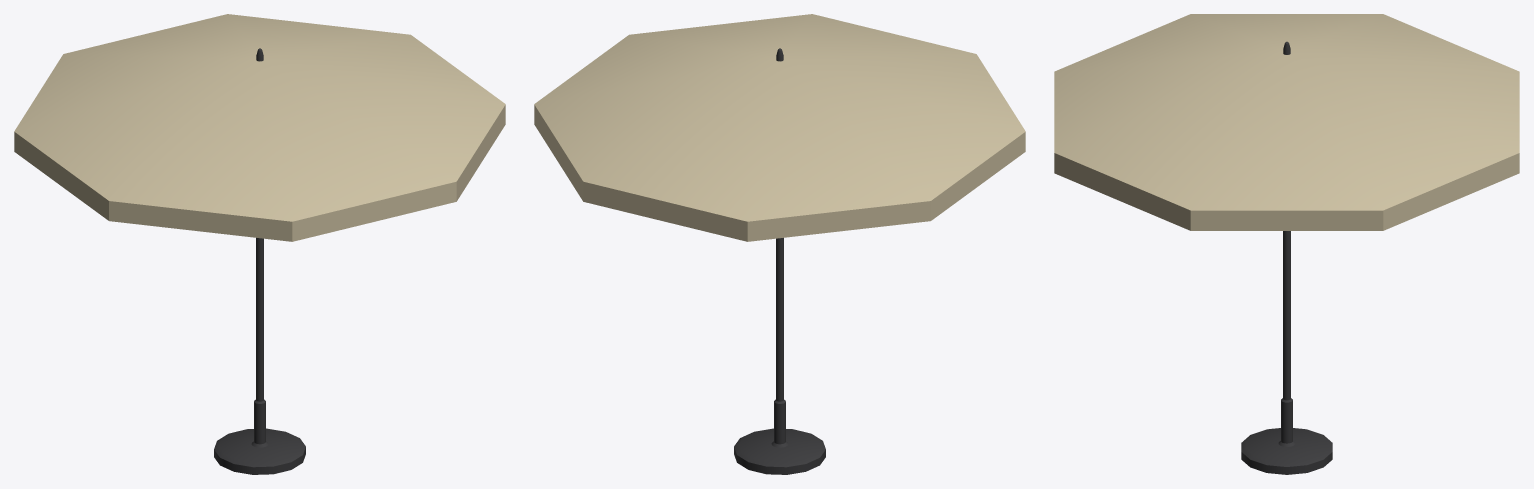
File: parasol.glb
The picture shows the model from 3 angles, left to right: view 1: azimuth 30°, elevation 25°; view 2: azimuth 150°, elevation 25°; view 3: azimuth 270°, elevation 25°; orthographic projection.
Parts seen in each view (by area): view 1: parasol; view 2: parasol; view 3: parasol.
Boxes of the visible parts, x1=… form: parasol: x1=14, y1=14, x2=505, y2=474; parasol: x1=534, y1=14, x2=1025, y2=474; parasol: x1=1054, y1=14, x2=1519, y2=474.
Bounding box in the file's own units: 2.68 × 2.63 × 2.68.
